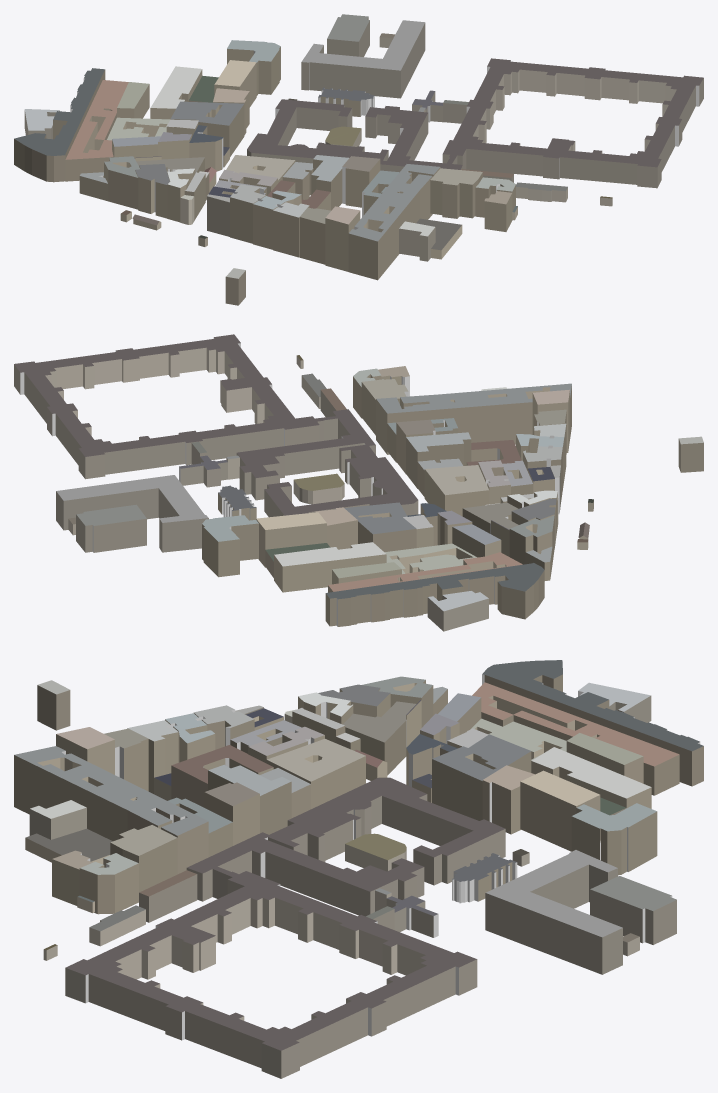
3 views of the same model, one above another, from view 1: azimuth 30°, elevation 25°; view 2: azimuth 150°, elevation 25°; view 3: azimuth 270°, elevation 25° (orthographic). The views are drawn at different scales.
Parts seen in each view (by area): view 1: tuile; view 2: tuile; view 3: tuile.
Boxes of the visible parts, <box> form: tuile: <box>14,14,703,305</box>; tuile: <box>14,334,703,631</box>; tuile: <box>14,660,703,1078</box>.
Bounding box in the file's own units: 375 × 29.23 × 285.
